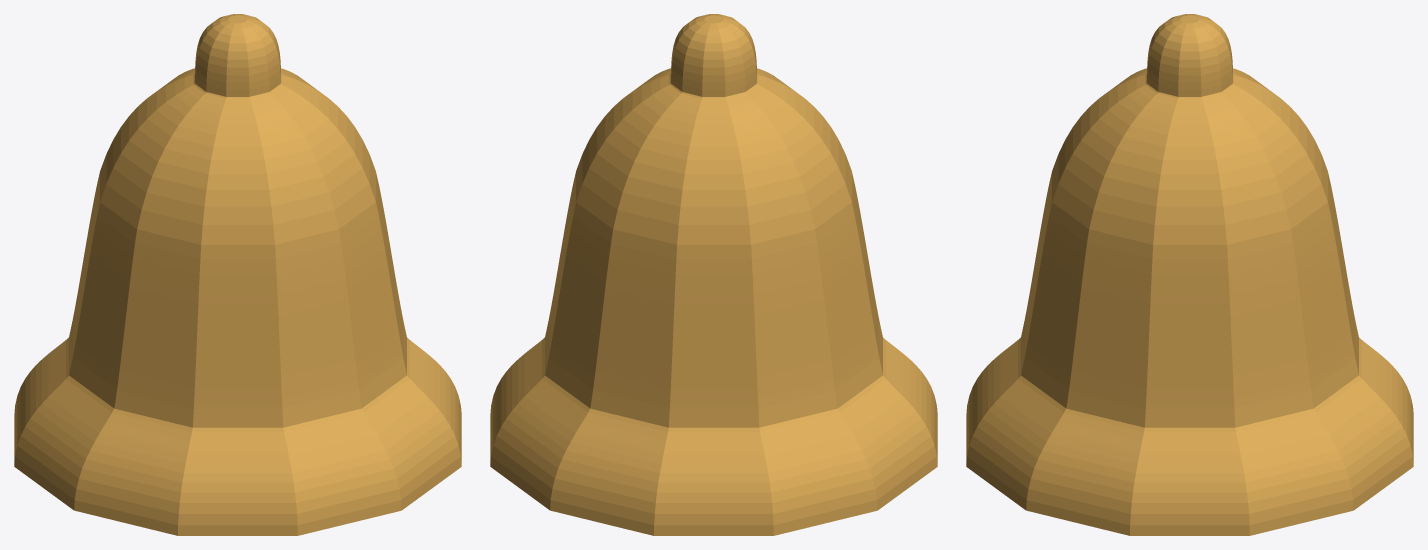
The model's file is L.Bell.fbx.
3 views of the same model, side by side, from view 1: azimuth 30°, elevation 25°; view 2: azimuth 150°, elevation 25°; view 3: azimuth 270°, elevation 25° (orthographic).
Parts seen in each view (by area): view 1: L. Bell; view 2: L. Bell; view 3: L. Bell.
Part boxes in pixels (x1,y1,x2,y2): L. Bell: [14, 14, 461, 535]; L. Bell: [490, 14, 937, 535]; L. Bell: [966, 14, 1413, 535].
Size of the model in its own units: 651 by 679 by 651.
